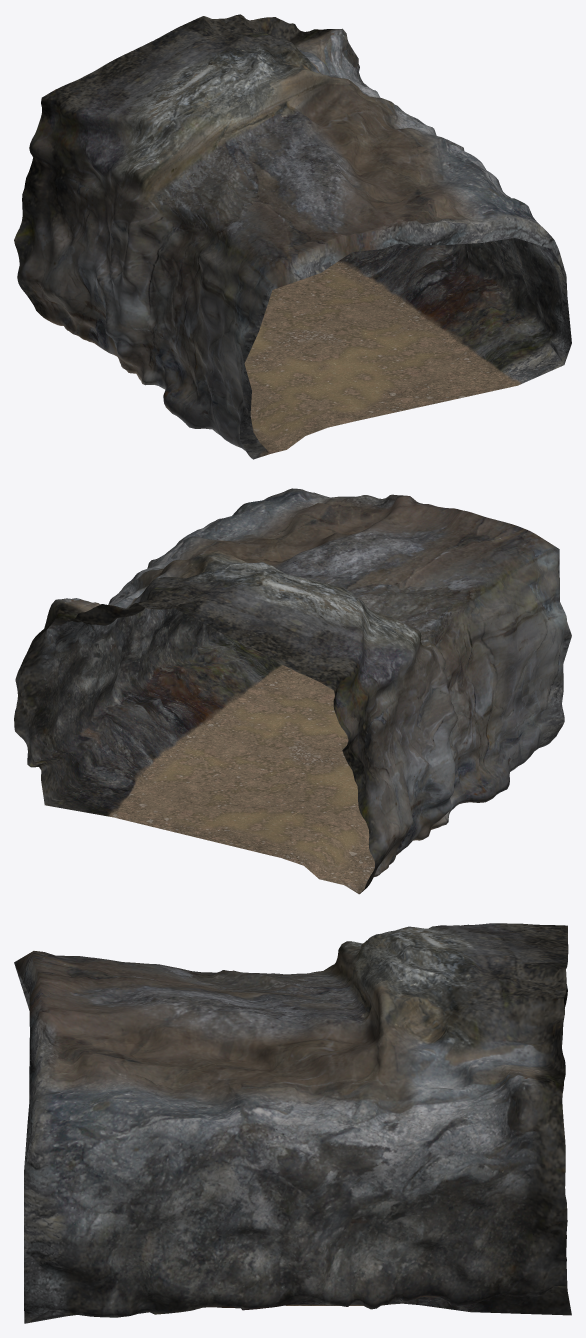
The model's file is piece.obj.
The picture shows the model from 3 angles, top to bottom: view 1: azimuth 30°, elevation 25°; view 2: azimuth 150°, elevation 25°; view 3: azimuth 270°, elevation 25°; orthographic projection. The views are drawn at different scales.
Parts seen in each view (by area): view 1: TunnelA6; view 2: TunnelA6; view 3: TunnelA6.
Boxes of the visible parts, x1,y1,x2,y2 form: TunnelA6: (14,14,571,459); TunnelA6: (14,488,571,894); TunnelA6: (14,923,571,1323).
Size of the model in its own units: 4.58 by 3.12 by 5.08.
1 material, 1 textured.
